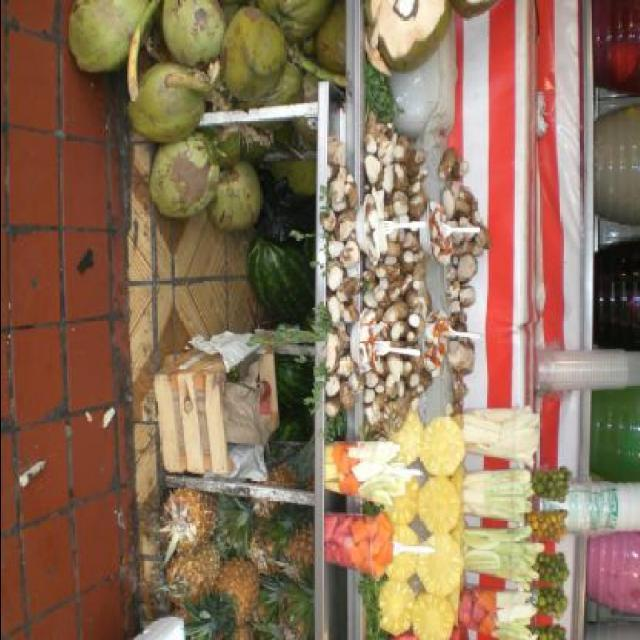Coconut: (66, 0, 503, 238)
